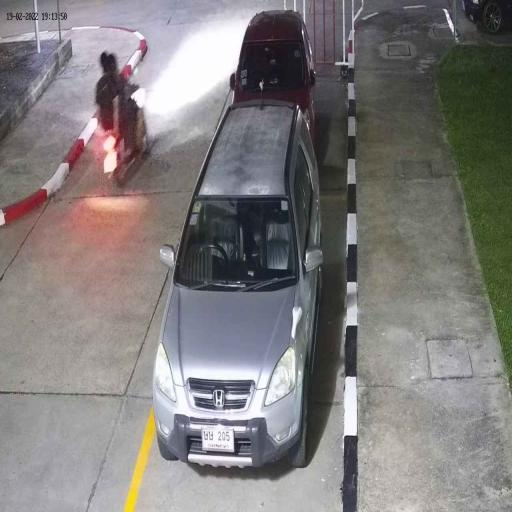car: (151, 102, 324, 470), (230, 8, 315, 125)
motorcycle: (102, 122, 150, 191)
